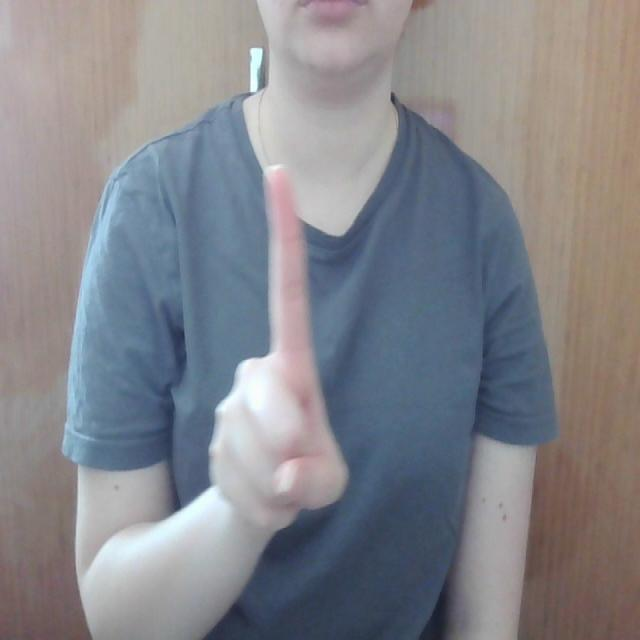Hayir: (202, 142, 358, 544)
